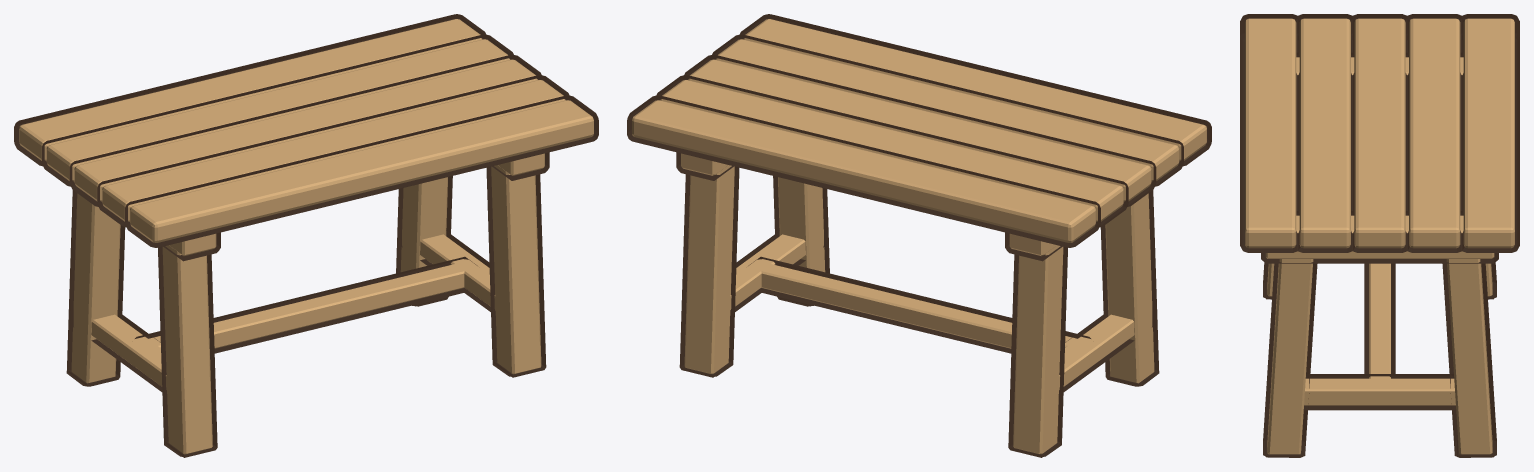
Rendered from botanic-desk.glb.
3 renders of one model, left to right at view 1: azimuth 30°, elevation 25°; view 2: azimuth 150°, elevation 25°; view 3: azimuth 270°, elevation 25°, orthographic.
Visible parts, largest first — view 1: botanic-desk.002, botanic-desk-outline.002; view 2: botanic-desk.002, botanic-desk-outline.002; view 3: botanic-desk.002, botanic-desk-outline.002.
Boxes of the visible parts, x1,y1,x2,y2 form: botanic-desk.002: (19,19,593,454); botanic-desk-outline.002: (14,14,598,457); botanic-desk.002: (632,19,1206,454); botanic-desk-outline.002: (627,14,1211,457); botanic-desk.002: (1245,18,1514,454); botanic-desk-outline.002: (1240,14,1519,457).
Size of the model in its own units: 1.83 by 0.9995 by 1.
